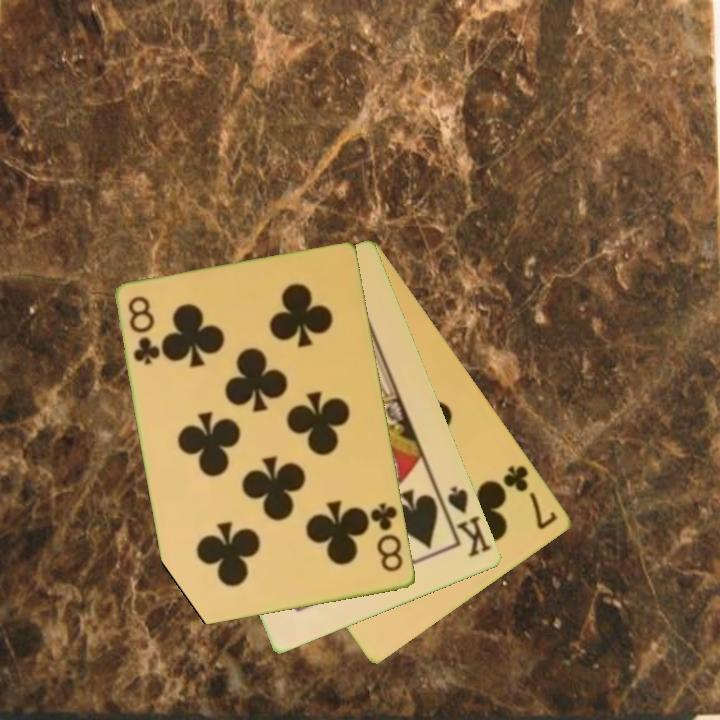7c: (500, 461, 561, 533)
8c: (367, 499, 407, 576), (125, 293, 163, 368)
Ks: (444, 482, 495, 561)
